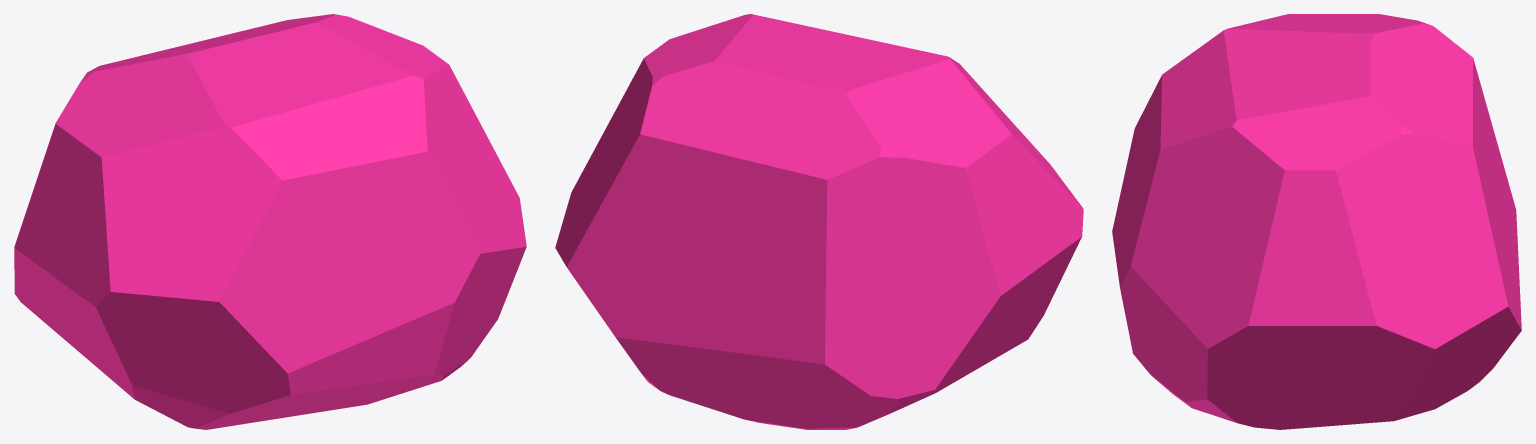
File: gem-3-compressed.gltf
The picture shows the model from 3 angles, left to right: view 1: azimuth 30°, elevation 25°; view 2: azimuth 150°, elevation 25°; view 3: azimuth 270°, elevation 25°; orthographic projection.
Parts seen in each view (by area): view 1: gem-3; view 2: gem-3; view 3: gem-3.
Boxes of the visible parts, left/top/right/bottom form: gem-3: left=14, top=14, right=526, bottom=429; gem-3: left=555, top=14, right=1083, bottom=429; gem-3: left=1112, top=14, right=1521, bottom=429.
Size of the model in its own units: 1.21 by 0.8711 by 0.9979.
